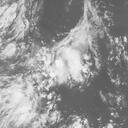cyclone: (43, 45, 87, 89)
